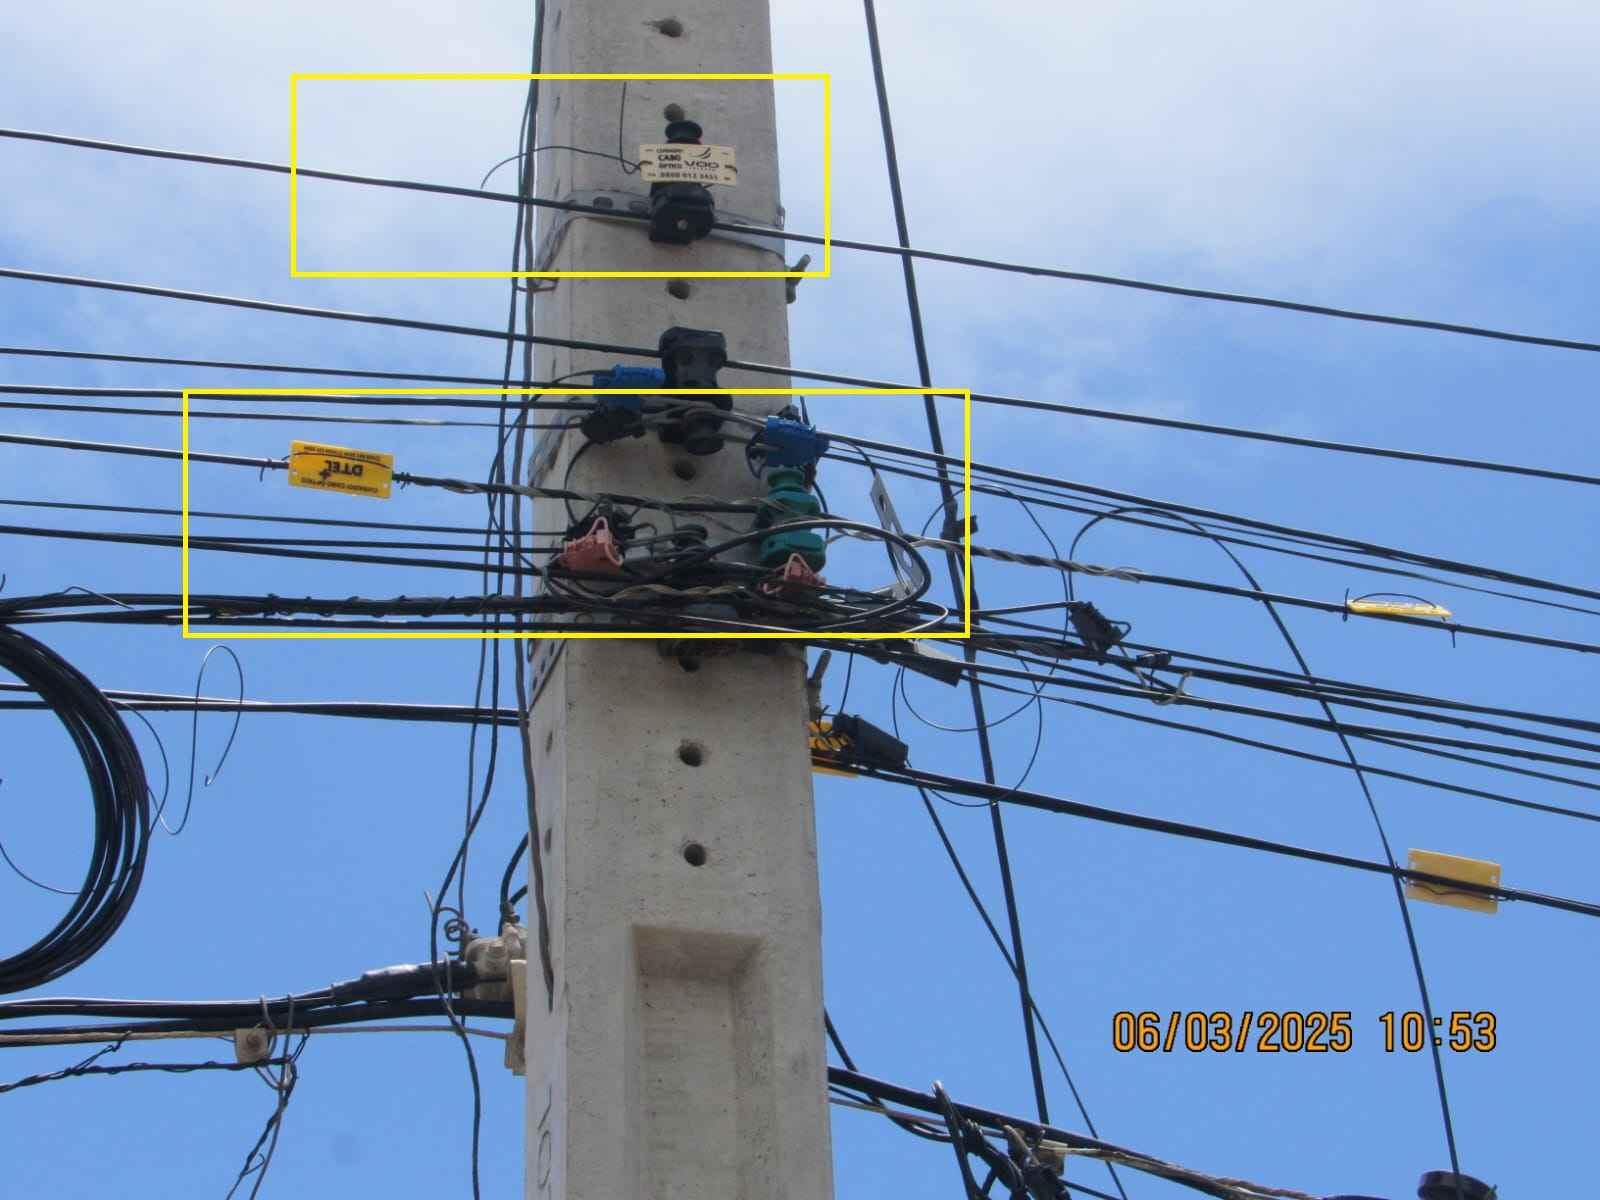coaxial: (199, 899, 537, 1100)
drop: (1045, 572, 1156, 690), (806, 686, 906, 781), (537, 507, 621, 570)
fibra_optica: (1395, 845, 1505, 912), (281, 441, 398, 500), (638, 137, 740, 187), (1349, 581, 1445, 630)
